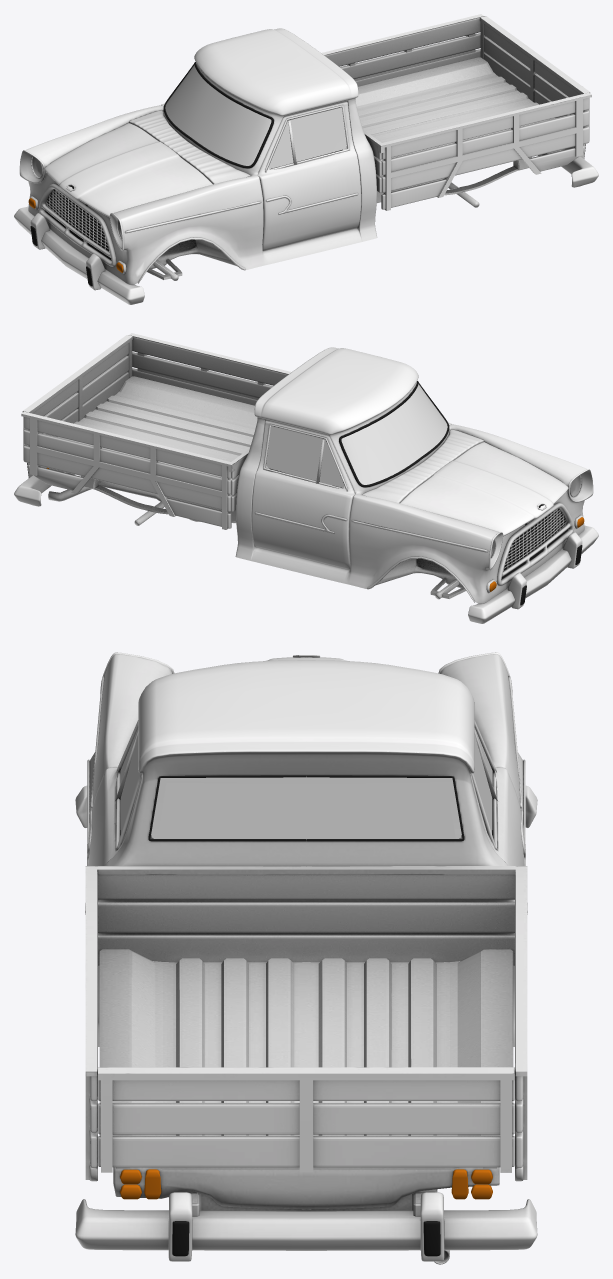
Rendered from Rastrojero07.glb.
3 views of the same model, one above another, from view 1: azimuth 30°, elevation 25°; view 2: azimuth 150°, elevation 25°; view 3: azimuth 270°, elevation 25° (orthographic). The views are drawn at different scales.
Visible parts, largest first — view 1: Pintura_ao, Chapa_ao, Madera_ao, Metal_ao, Vidrio_ao, Goma_ao; view 2: Pintura_ao, Chapa_ao, Madera_ao, Metal_ao, Vidrio_ao, Goma_ao; view 3: Chapa_ao, Madera_ao, Pintura_ao, Metal_ao, Vidrio_ao, Goma_ao, LucesReversa_ao.
Part boxes in pixels (x1=…): Pintura_ao: x1=25, y1=28, x2=377, y2=284; Chapa_ao: x1=45, y1=14, x2=591, y2=280; Madera_ao: x1=325, y1=18, x2=589, y2=209; Metal_ao: x1=14, y1=143, x2=598, y2=304; Vidrio_ao: x1=165, y1=65, x2=346, y2=168; Goma_ao: x1=30, y1=62, x2=585, y2=286; Pintura_ao: x1=235, y1=347, x2=587, y2=603; Chapa_ao: x1=21, y1=333, x2=567, y2=599; Madera_ao: x1=23, y1=337, x2=287, y2=528; Metal_ao: x1=14, y1=462, x2=598, y2=623; Vidrio_ao: x1=266, y1=384, x2=447, y2=487; Goma_ao: x1=27, y1=381, x2=582, y2=605; Chapa_ao: x1=85, y1=831, x2=527, y2=1264; Madera_ao: x1=89, y1=872, x2=523, y2=1181; Pintura_ao: x1=87, y1=654, x2=525, y2=1046; Metal_ao: x1=75, y1=652, x2=537, y2=1261; Vidrio_ao: x1=120, y1=728, x2=492, y2=839; Goma_ao: x1=148, y1=775, x2=464, y2=1256; LucesReversa_ao: x1=144, y1=1169, x2=468, y2=1199.
Bounding box in the file's own units: 4.64 × 1.44 × 1.88.
Materials: 7 (4 with a texture image).
